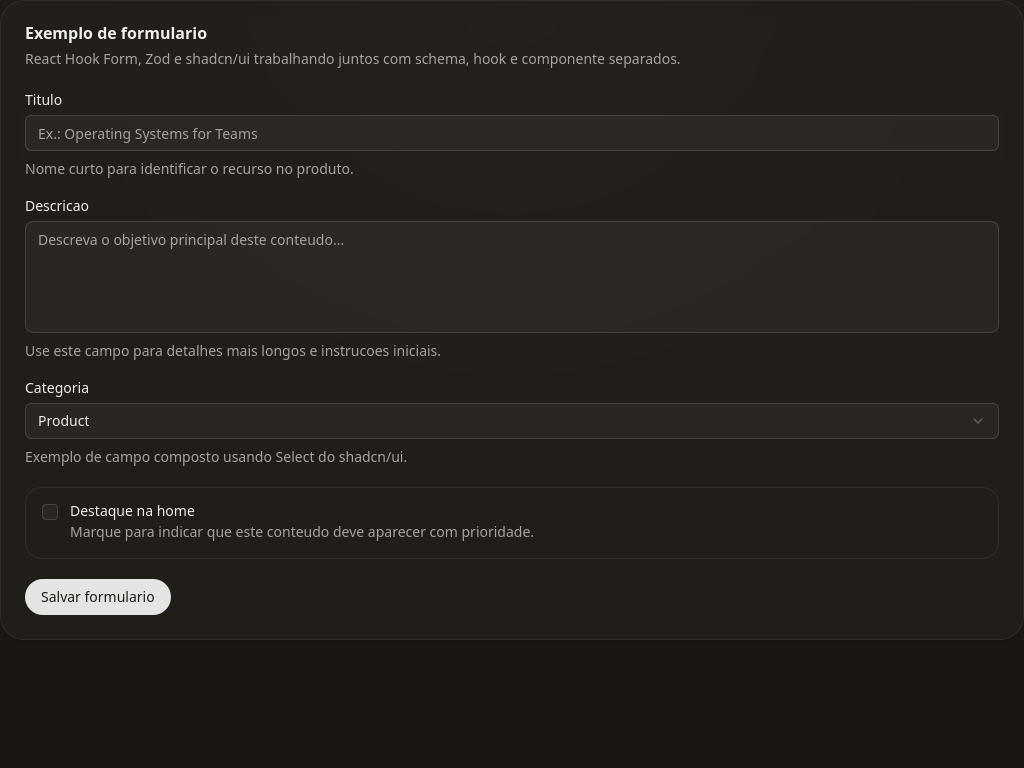
ExampleForm › permite preencher e enviar dados validos
In the field labelled "Titulo": (512, 133) [25,115,999,151], type "Team Knowledge Base"
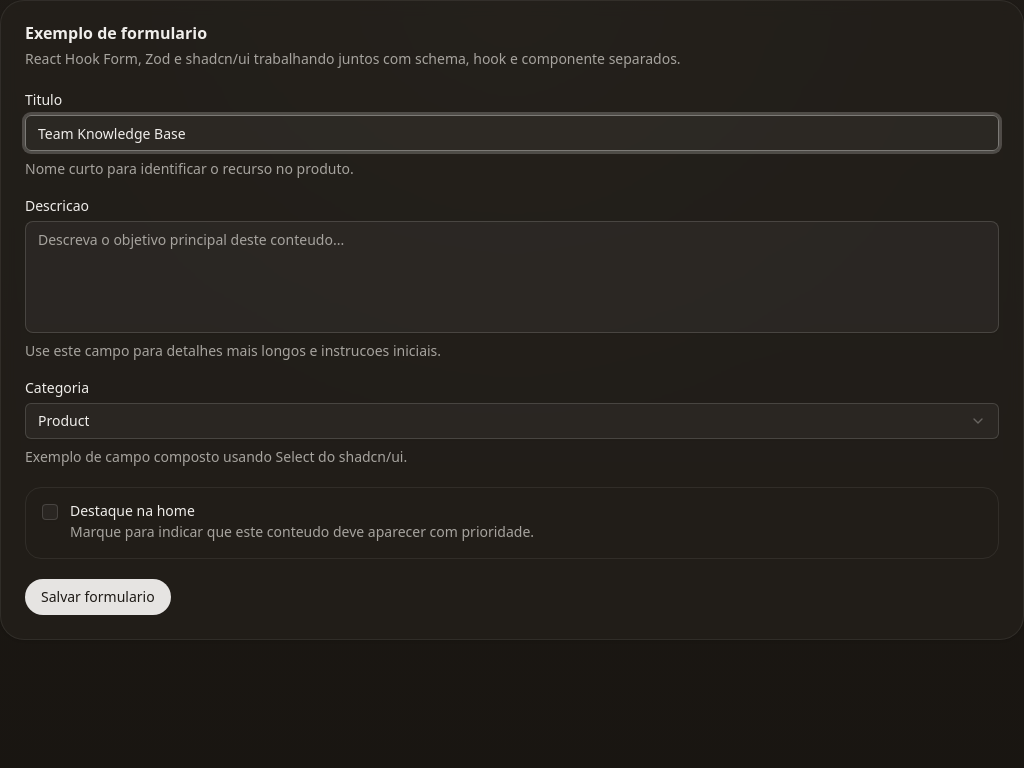
In the text box labelled "Descricao": (512, 277) [25,221,999,333], type "Um formulario de exemplo para padronizar validacao e composicao com shadcn/ui."
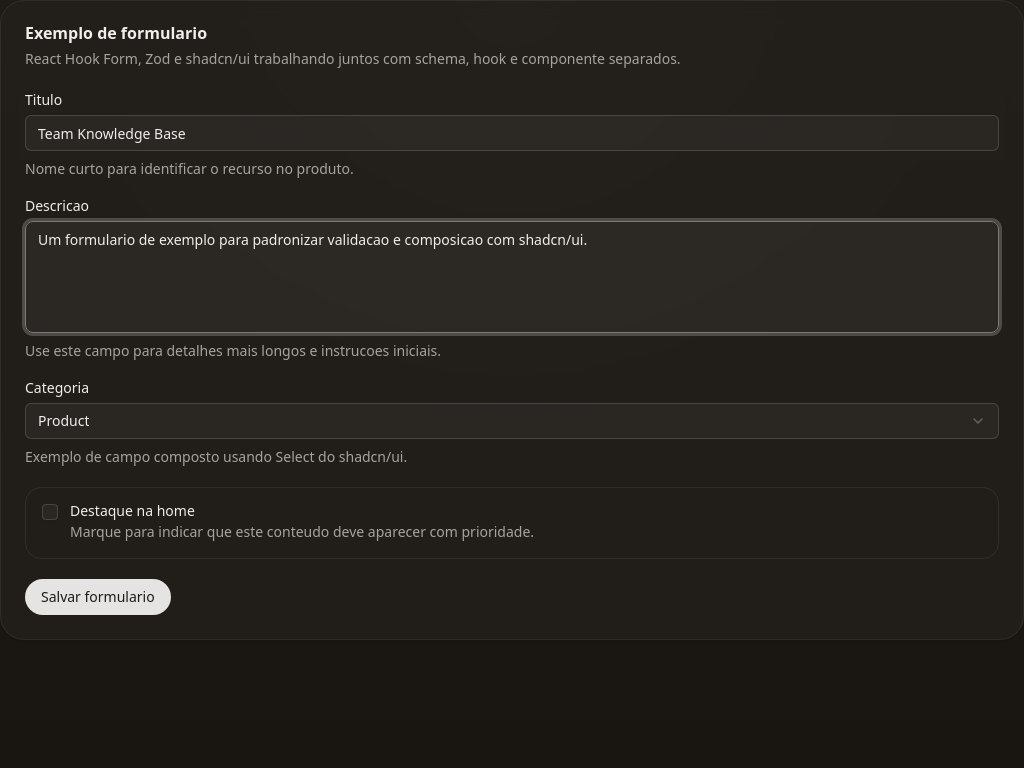
Click the checkbox named "Destaque na home": (50, 512) [42,504,58,520]
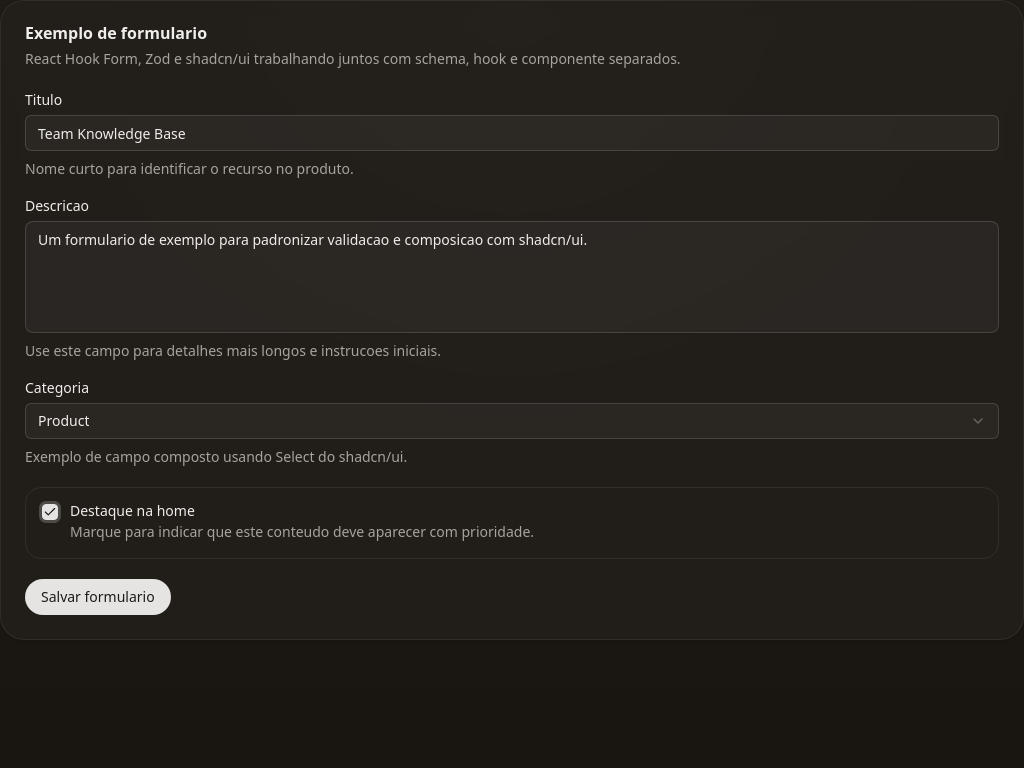
Click the button "Salvar formulario": (98, 597) [25,579,171,615]
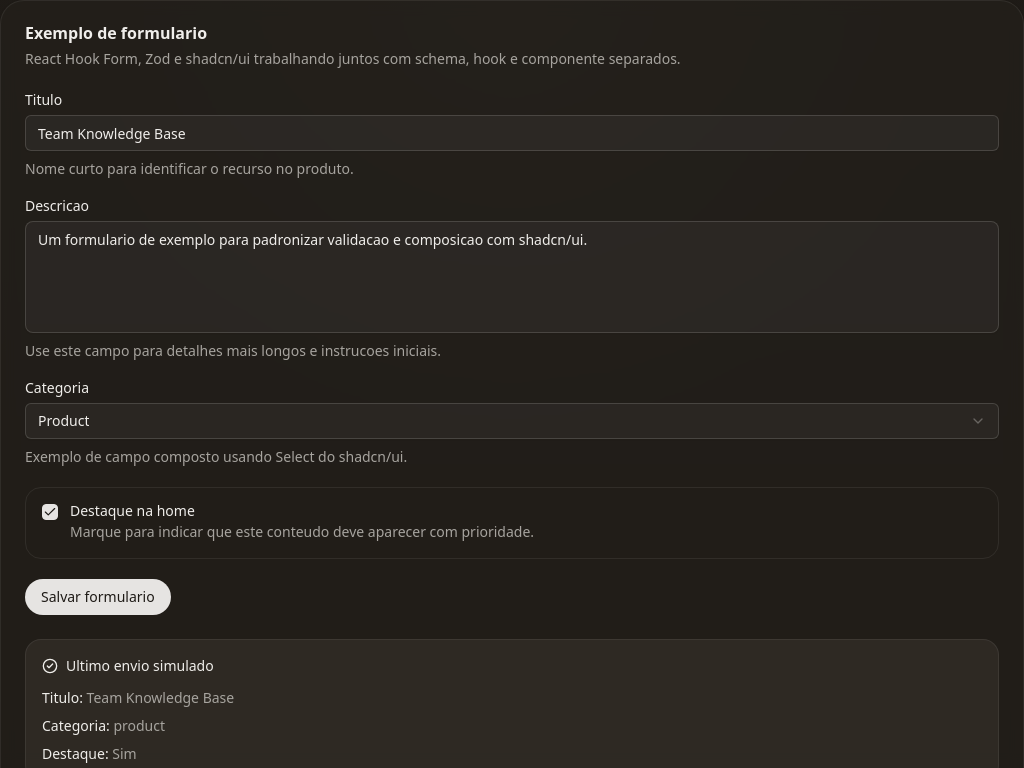
Expected: the text "Ultimo envio simulado" is shown, [66,656,214,676]
Expected: the text "Titulo: Team Knowledge Base" is shown, [42,688,234,707]
Expected: the text "Categoria: product" is shown, [42,716,165,735]
